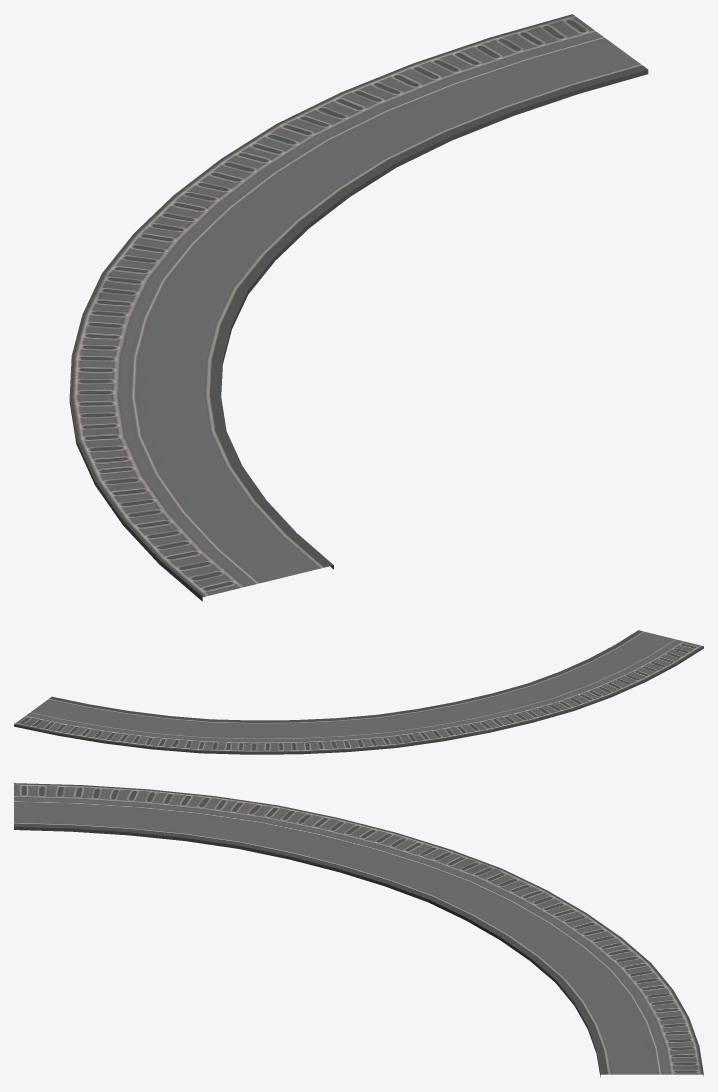
File: BottomMetal_Corner_Round_Inner.glb
3 views of the same model, one above another, from view 1: azimuth 30°, elevation 25°; view 2: azimuth 150°, elevation 25°; view 3: azimuth 270°, elevation 25° (orthographic). The views are drawn at different scales.
Visible parts, largest first — view 1: BottomMetal_Corner_Round_Inner; view 2: BottomMetal_Corner_Round_Inner; view 3: BottomMetal_Corner_Round_Inner.
Part boxes in pixels (box(x1,y1,x2,y2)): BottomMetal_Corner_Round_Inner: box(69, 14, 648, 601); BottomMetal_Corner_Round_Inner: box(14, 630, 703, 754); BottomMetal_Corner_Round_Inner: box(14, 783, 703, 1077).
Size of the model in its own units: 4 by 0.02 by 4.
Materials: 2 (2 with a texture image).
